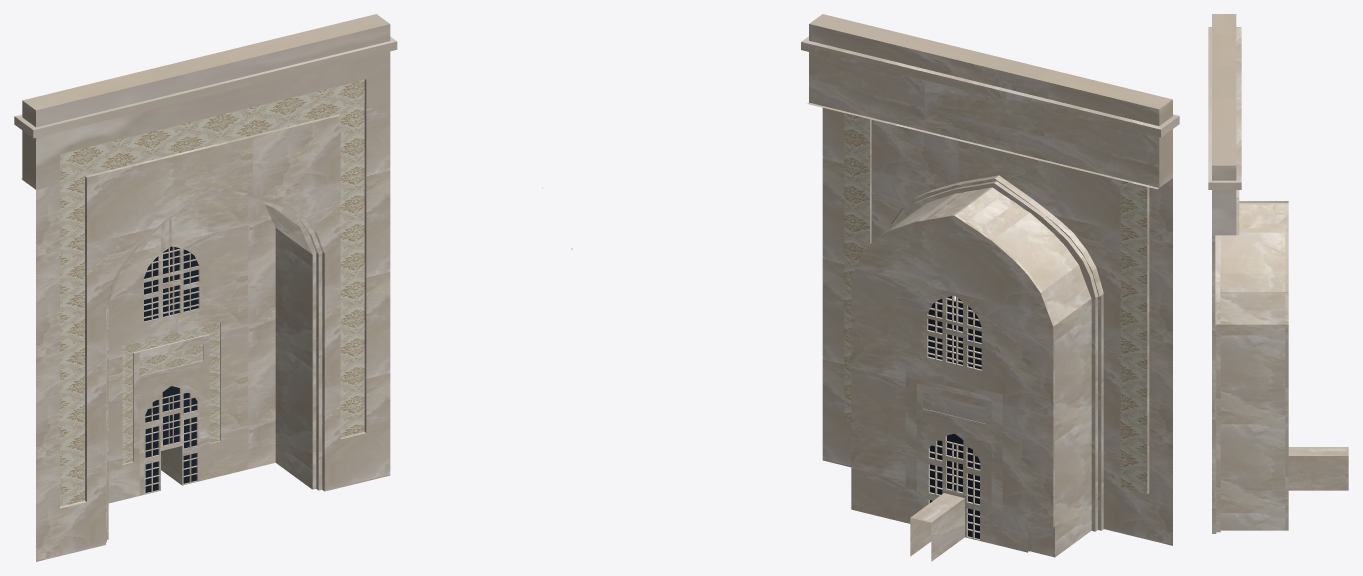
File: Palace Main Wall.fbx
The picture shows the model from 3 angles, left to right: view 1: azimuth 30°, elevation 25°; view 2: azimuth 150°, elevation 25°; view 3: azimuth 270°, elevation 25°; orthographic projection. The views are drawn at different scales.
Visible parts, largest first — view 1: Cube.082; view 2: Cube.082; view 3: Cube.082.
Boxes of the visible parts, x1,y1,x2,y2 form: Cube.082: [14, 14, 542, 561]; Cube.082: [571, 14, 1179, 561]; Cube.082: [1208, 14, 1348, 533].
Size of the model in its own units: 3070 by 2356 by 755.
3 materials, 2 textured.
